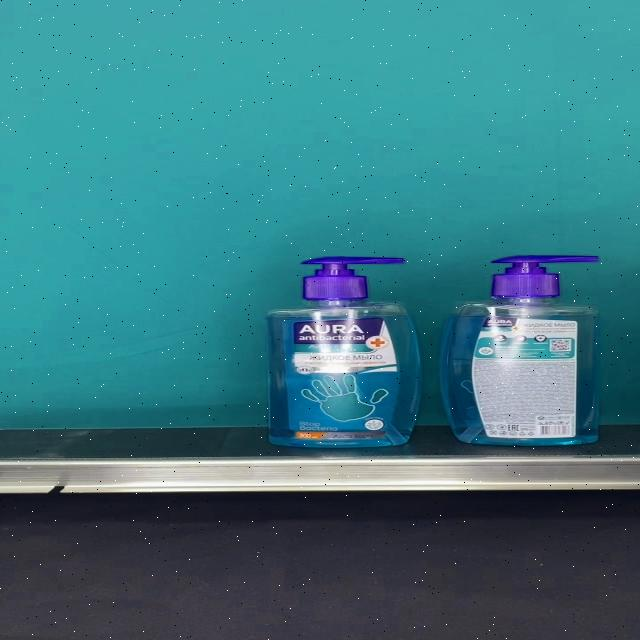Bottle: (440, 256, 601, 446), (266, 256, 422, 448)
Cap: (489, 256, 599, 299), (302, 257, 406, 299)
